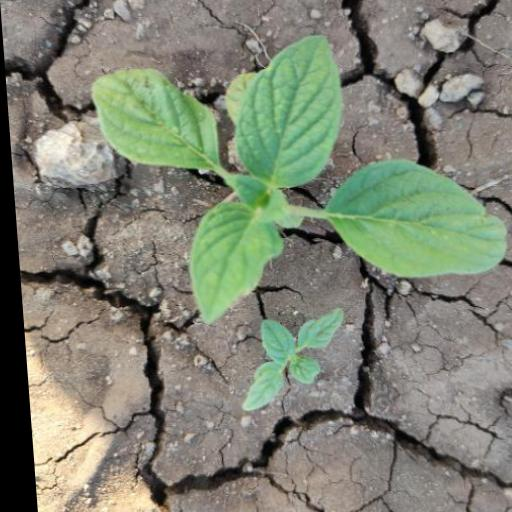crop: (79, 22, 505, 331), (231, 314, 369, 407)
